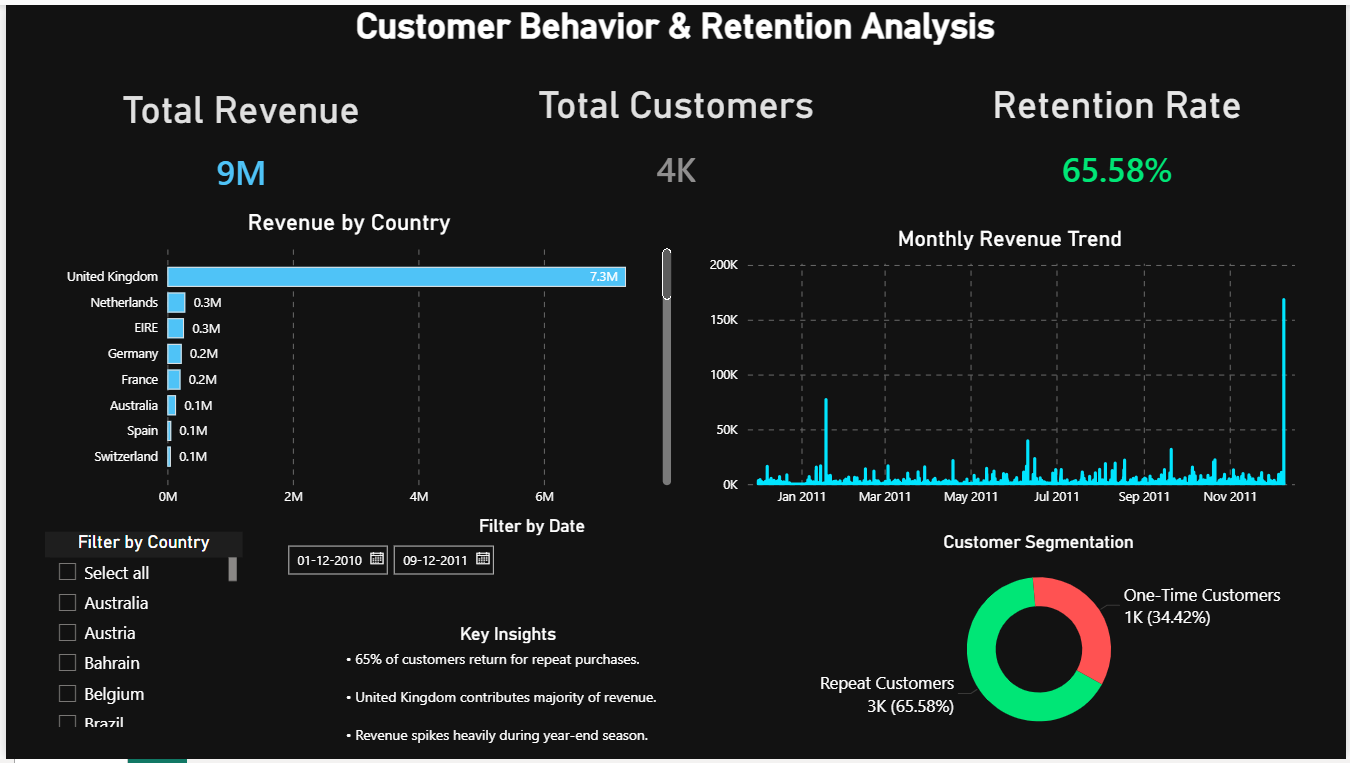

The page's visual inventory and layout, read from the dashboard file:
{"tool":"powerbi","page":{"name":"Page 1","canvas":[1280,720],"ordinal":0},"visuals":[{"type":"cardVisual","title":"Total Revenue","fields":{"Data":["Online Retail.Total Revenue"]},"box":[75,75,300,120],"z":0},{"type":"cardVisual","title":"Total Customers","fields":{"Data":["Online Retail.Total Customers"]},"box":[490,75,300,120],"z":1000},{"type":"textbox","title":"Customer Behavior & Retention Analysis","box":[288.5,0,703,74.3],"z":2000},{"type":"cardVisual","title":"Retention Rate","fields":{"Data":["Online Retail.Retention Rate"]},"box":[911.7,75,300,120],"z":3000},{"type":"clusteredBarChart","title":"Revenue by Country","fields":{"Category":["Online Retail.Country"],"Y":["Online Retail.Total Revenue"]},"box":[15.4,194.9,624.1,292.4],"z":4000},{"type":"lineChart","title":"Monthly Revenue Trend","fields":{"Y":["Online Retail.Total Revenue"],"Category":["Online Retail.InvoiceDate"]},"box":[666.7,210,585,276.7],"z":5000},{"type":"donutChart","title":"Customer Segmentation","fields":{"Y":["Customer Type.Customer Type Value"],"Category":["Customer Type.Type"]},"box":[748.3,503.3,476.7,205],"z":6000},{"type":"slicer","title":"Filter by Country","fields":{"Values":["Online Retail.Country"]},"box":[36.7,503.3,188.3,191.7],"z":7000},{"type":"slicer","title":"Filter by Date","fields":{"Values":["Online Retail.InvoiceDate"]},"box":[256.7,486.7,491.7,86.7],"z":8000},{"type":"textbox","title":"Key Insights","box":[320,590,320,130],"z":9000}]}

Visuals, with their boxes in screenshot pixels (x1, y1, x2, y2), scaled from the page's 1280x720 canvas onto the 1350x763 screenshot:
"Total Revenue" cardVisual: box(79, 79, 396, 207)
"Total Customers" cardVisual: box(517, 79, 833, 207)
"Customer Behavior & Retention Analysis" textbox: box(304, 0, 1046, 79)
"Retention Rate" cardVisual: box(962, 79, 1278, 207)
"Revenue by Country" clusteredBarChart: box(16, 207, 674, 516)
"Monthly Revenue Trend" lineChart: box(703, 223, 1320, 516)
"Customer Segmentation" donutChart: box(789, 533, 1292, 751)
"Filter by Country" slicer: box(39, 533, 237, 737)
"Filter by Date" slicer: box(271, 516, 789, 608)
"Key Insights" textbox: box(338, 625, 675, 762)
